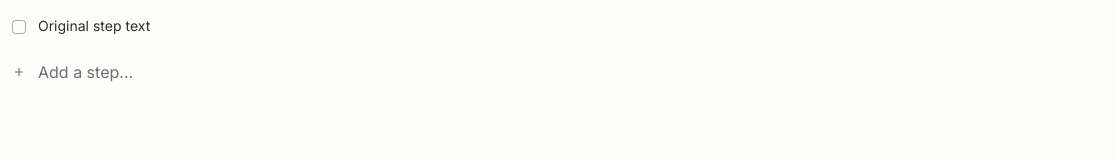
Test: SubtaskList - keyboard navigation contract › cancels edit mode without changes when Escape is pressed during edit
Click the button "Original step text" at [94, 26], box [38, 17, 150, 34]
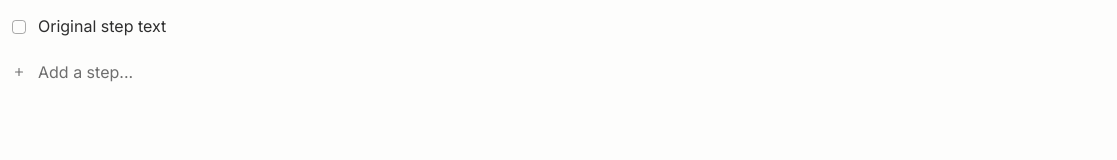
Replace the text in the field named "Edit step" with "Modified text" at [569, 26], box [38, 12, 1100, 40]
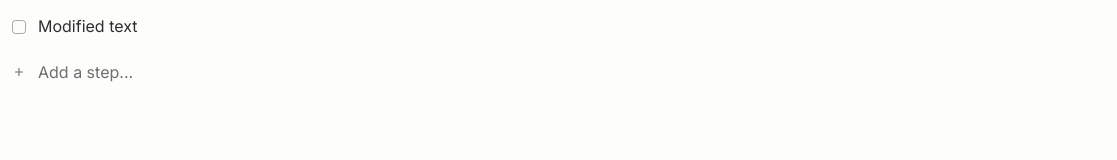
Press Escape in the field named "Edit step", box [38, 12, 1100, 40]
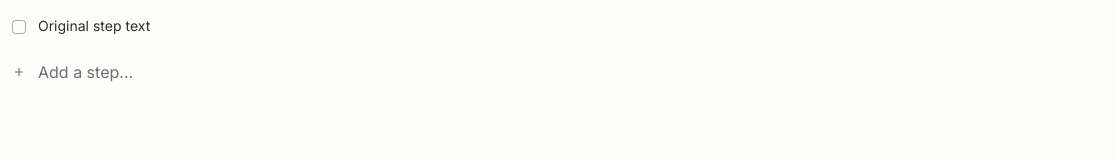
Now the button "Original step text" is shown, box [38, 17, 150, 34]
